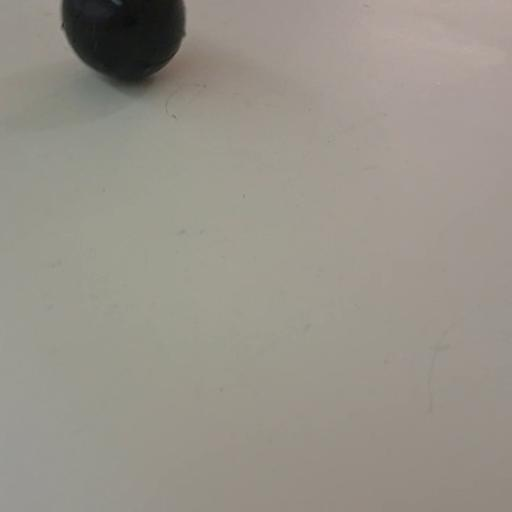dead: (60, 0, 187, 81)
